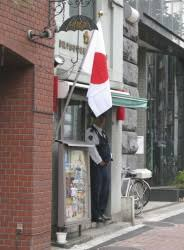Japanese Flag: (75, 16, 117, 117)
